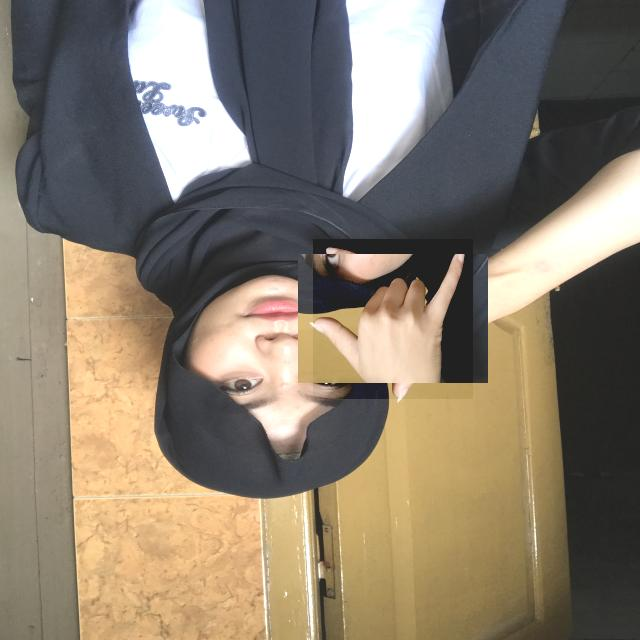telpon: (313, 239, 473, 399)
